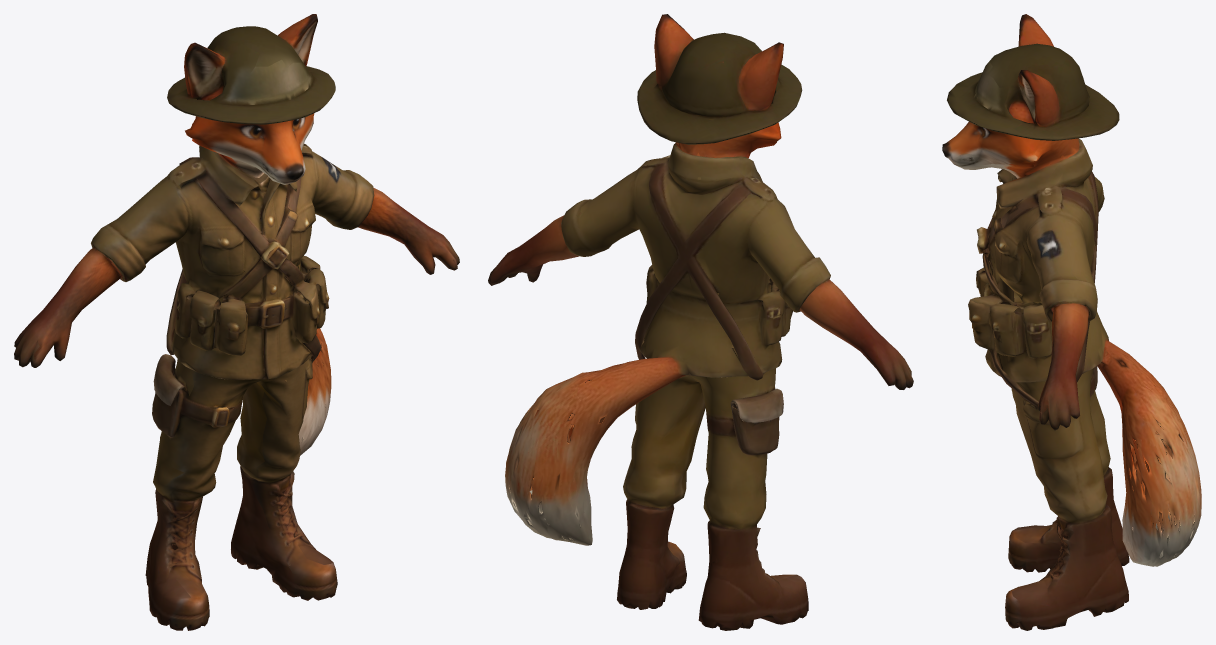
The model's file is foxv2_20k.glb.
3 views of the same model, side by side, from view 1: azimuth 30°, elevation 25°; view 2: azimuth 150°, elevation 25°; view 3: azimuth 270°, elevation 25° (orthographic). The views are drawn at different scales.
Parts seen in each view (by area): view 1: Mesh_0.001; view 2: Mesh_0.001; view 3: Mesh_0.001.
Boxes of the visible parts, <box> form: Mesh_0.001: <box>14,14,459,630</box>; Mesh_0.001: <box>488,14,913,630</box>; Mesh_0.001: <box>942,14,1201,630</box>.
Bounding box in the file's own units: 0.7081 × 0.9038 × 0.3846.
Materials: 1 (1 with a texture image).
